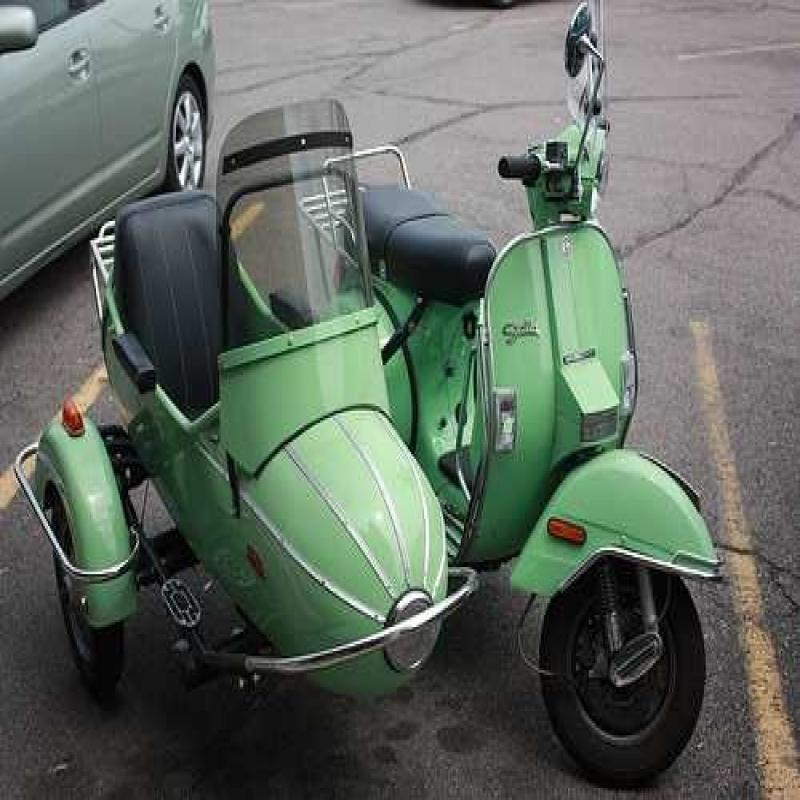bike: (374, 0, 726, 762)
